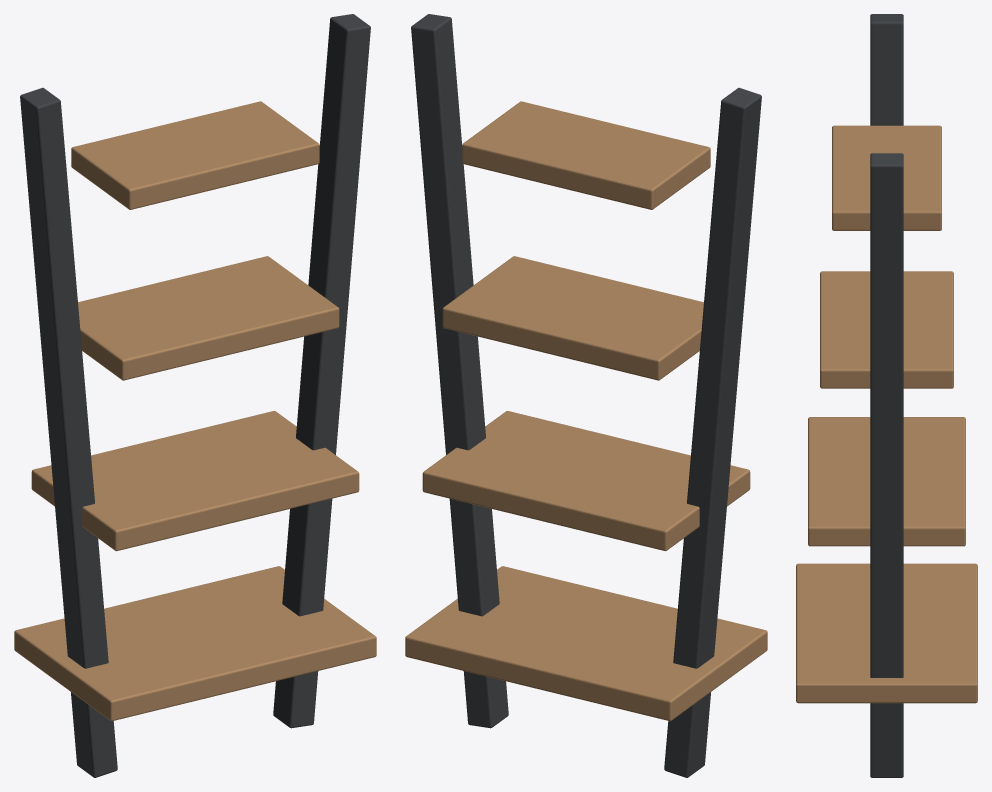
File: minimal-ladder-shelf-01.glb
The picture shows the model from 3 angles, left to right: view 1: azimuth 30°, elevation 25°; view 2: azimuth 150°, elevation 25°; view 3: azimuth 270°, elevation 25°; orthographic projection. The views are drawn at different scales.
Parts seen in each view (by area): view 1: minimal-ladder-shelf-01; view 2: minimal-ladder-shelf-01; view 3: minimal-ladder-shelf-01.
Boxes of the visible parts, <box> form: minimal-ladder-shelf-01: <box>14,14,376,777</box>; minimal-ladder-shelf-01: <box>405,14,767,777</box>; minimal-ladder-shelf-01: <box>796,14,977,777</box>.
Bounding box in the file's own units: 0.7531 × 1.48 × 0.38.
